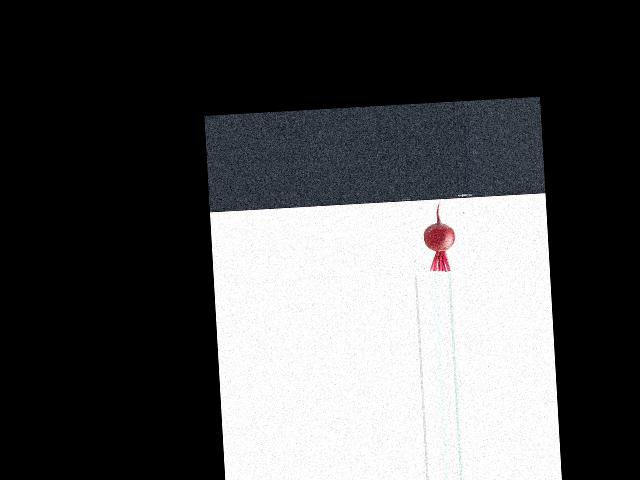beet: (421, 200, 456, 272)
